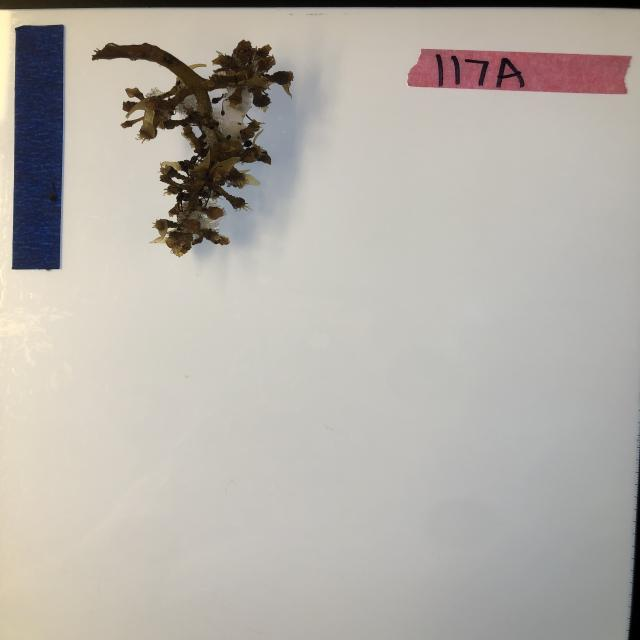index: (404, 45, 632, 97)
measure_label: (13, 22, 62, 272)
rachis_cluster: (90, 30, 302, 262)
